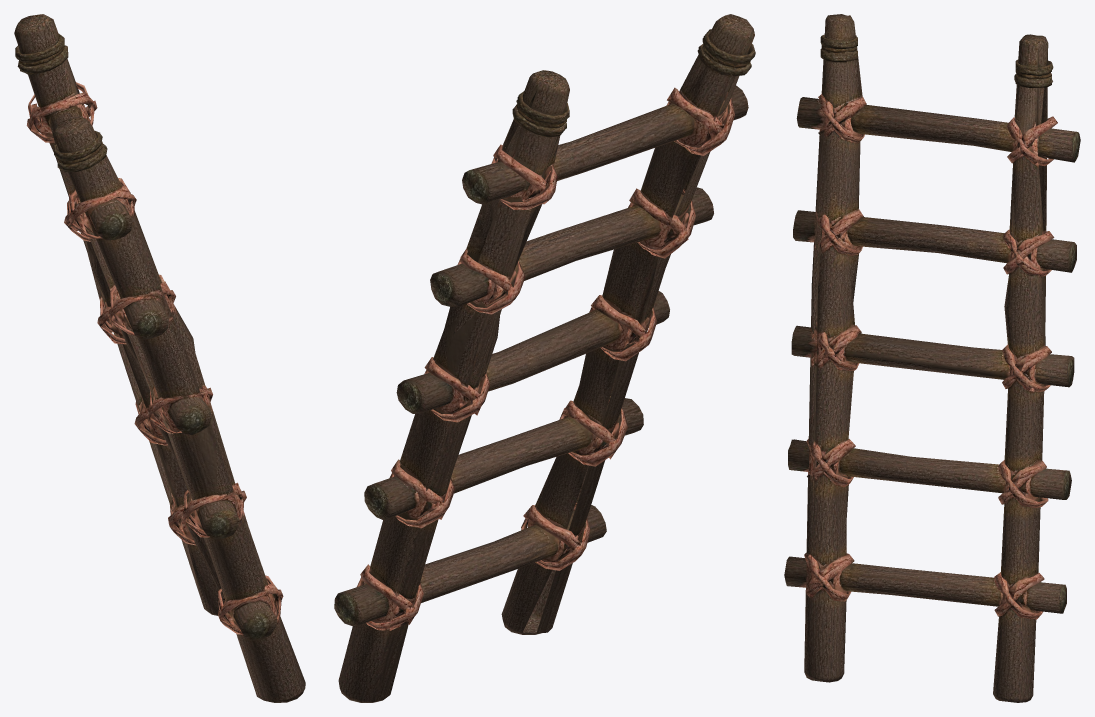
Rendered from tripo_convert_085d65f3-8d14-43c6-abb8-070c65e509f1.fbx.
3 renders of one model, left to right at view 1: azimuth 30°, elevation 25°; view 2: azimuth 150°, elevation 25°; view 3: azimuth 270°, elevation 25°, orthographic. The views are drawn at different scales.
Visible parts, largest first — view 1: tripo_node_085d65f3; view 2: tripo_node_085d65f3; view 3: tripo_node_085d65f3.
Boxes of the visible parts, bbox=[...] form: tripo_node_085d65f3: bbox=[14, 14, 305, 702]; tripo_node_085d65f3: bbox=[334, 14, 755, 702]; tripo_node_085d65f3: bbox=[784, 14, 1080, 702].
Bounding box in the file's own units: 0.4824 × 0.998 × 0.4629.
Materials: 1 (1 with a texture image).
